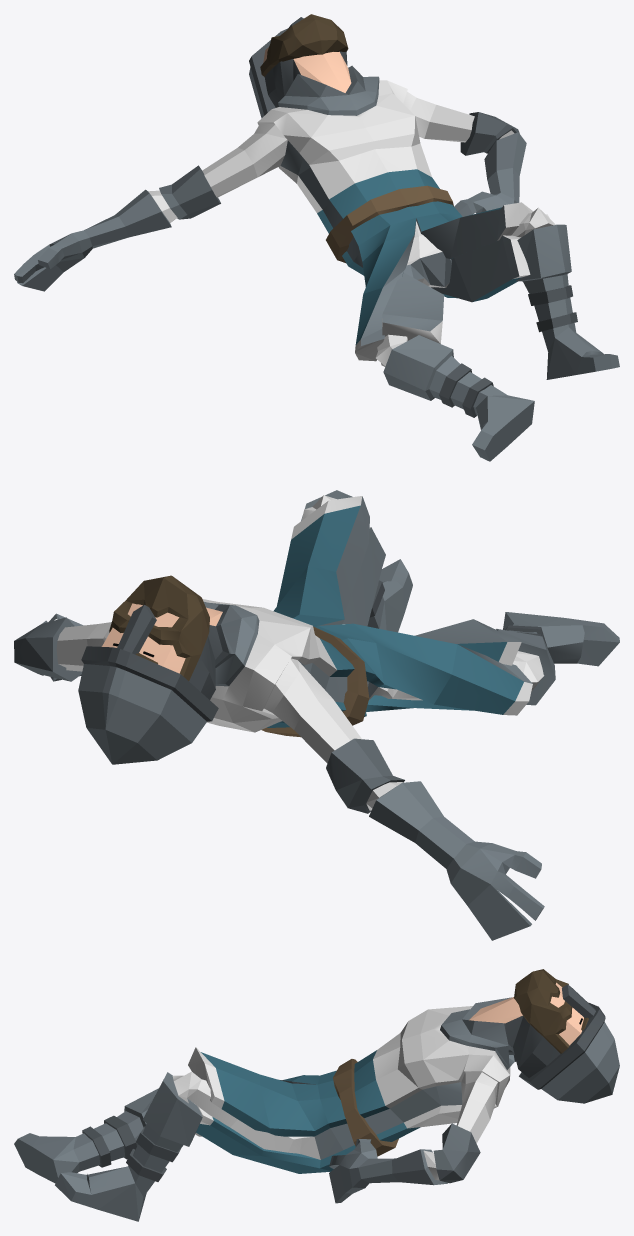
Rendered from SM_Dead_Soldier_11.fbx.
The picture shows the model from 3 angles, top to bottom: view 1: azimuth 30°, elevation 25°; view 2: azimuth 150°, elevation 25°; view 3: azimuth 270°, elevation 25°; orthographic projection. The views are drawn at different scales.
Parts seen in each view (by area): view 1: SM_Dead_Soldier_11; view 2: SM_Dead_Soldier_11; view 3: SM_Dead_Soldier_11.
Part boxes in pixels (left/top/right/bottom): SM_Dead_Soldier_11: left=14, top=14, right=619, bottom=461; SM_Dead_Soldier_11: left=14, top=490, right=619, bottom=940; SM_Dead_Soldier_11: left=14, top=969, right=619, bottom=1221.
Size of the model in its own units: 147 by 72.69 by 169.
